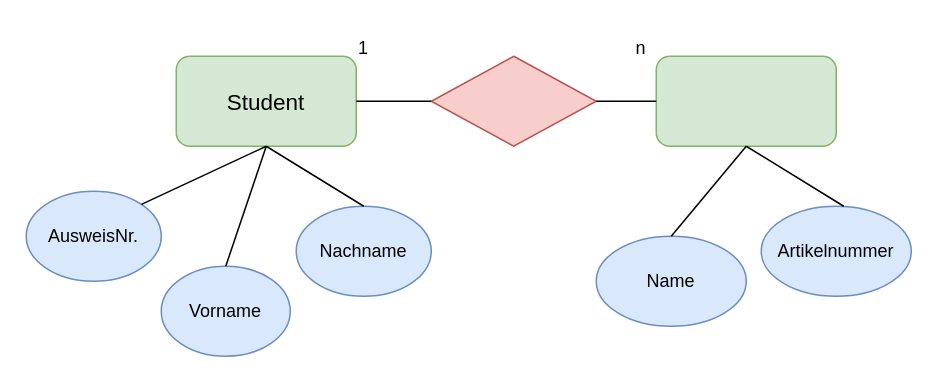
The diagram is 938 pixels wide and 383 high, and some of its shapes have lost their labels. The box of each missing label's shape, as (x1, y1, x2, y2) in pixels:
Bücher: (655, 55, 836, 146)
leiht aus: (430, 55, 596, 146)
